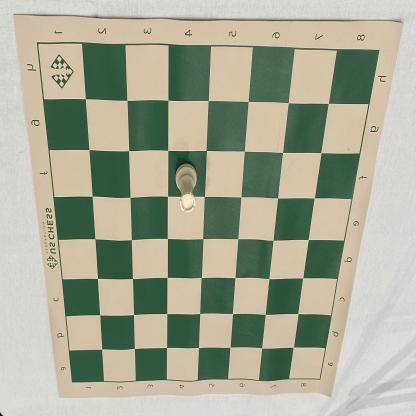white-rook: (175, 162, 198, 213)
